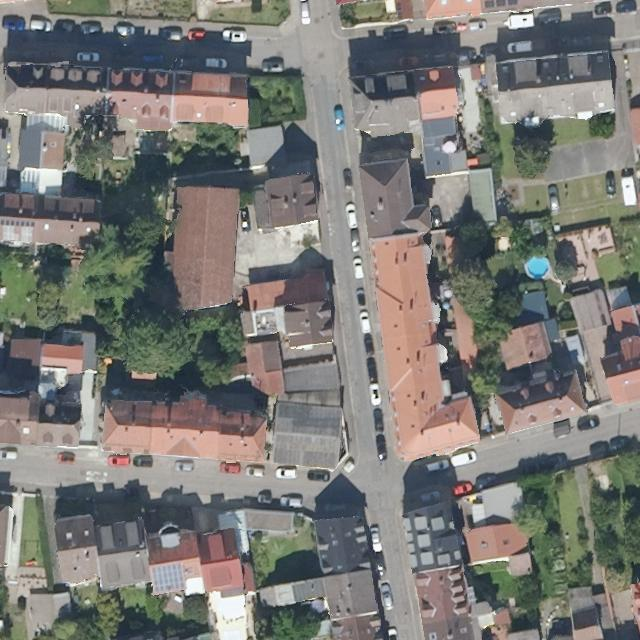PV: (149, 561, 186, 595), (0, 217, 36, 228)
